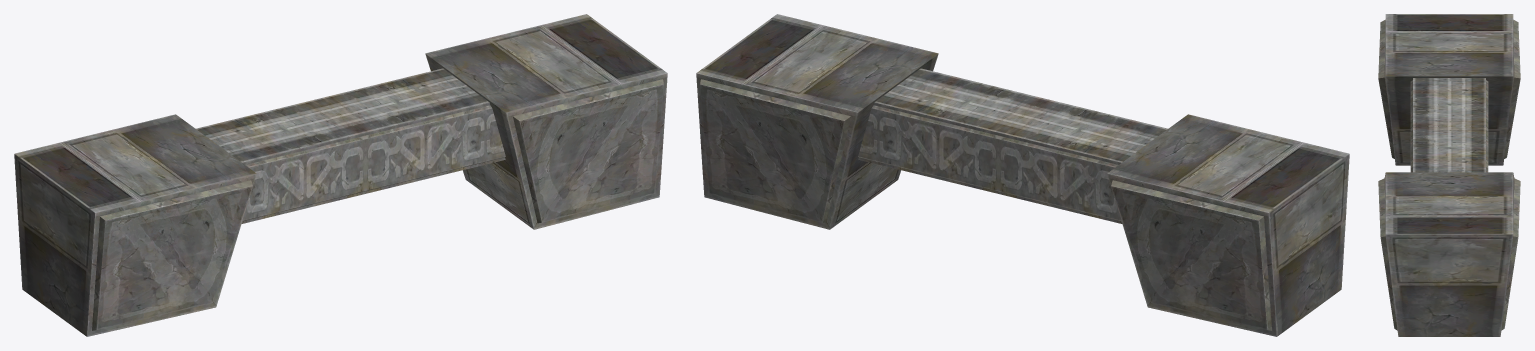
The model's file is all_arch_rakata_wall_set07.glb.
3 views of the same model, side by side, from view 1: azimuth 30°, elevation 25°; view 2: azimuth 150°, elevation 25°; view 3: azimuth 270°, elevation 25° (orthographic). The views are drawn at different scales.
Parts seen in each view (by area): view 1: all_arch_rakata_wall_set07; view 2: all_arch_rakata_wall_set07; view 3: all_arch_rakata_wall_set07.
Part boxes in pixels (box(x1,y1,x2,y2)): all_arch_rakata_wall_set07: box(14, 14, 667, 336); all_arch_rakata_wall_set07: box(696, 14, 1349, 336); all_arch_rakata_wall_set07: box(1378, 14, 1520, 336).
Size of the model in its own units: 3.08 by 0.6815 by 0.8413.
Materials: 1 (1 with a texture image).
